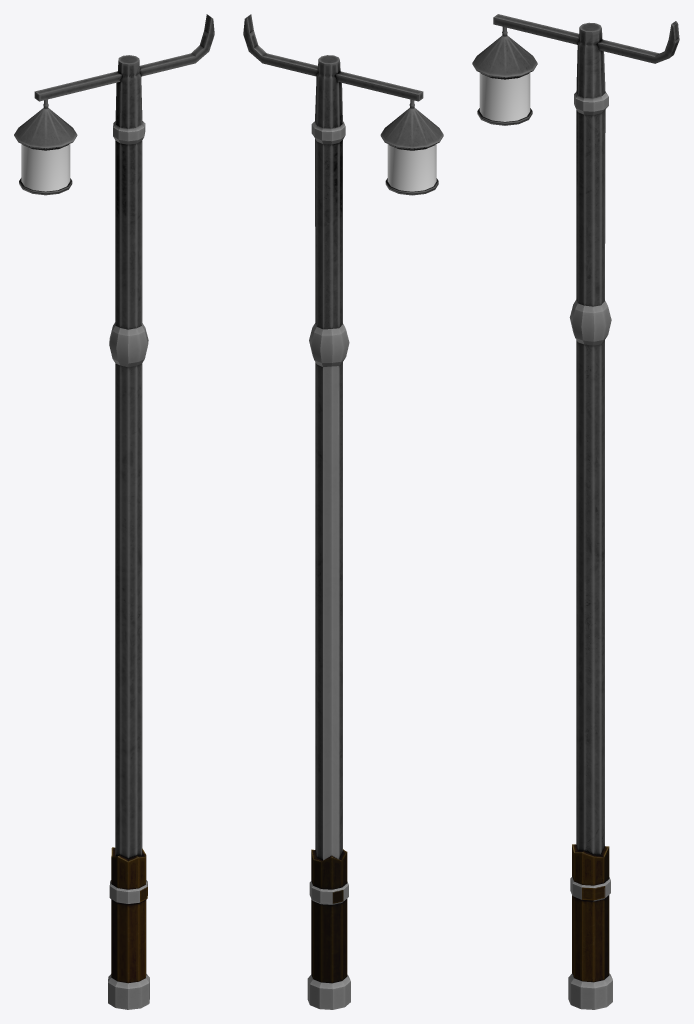
The model's file is lantern_02.fbx.
The picture shows the model from 3 angles, left to right: view 1: azimuth 30°, elevation 25°; view 2: azimuth 150°, elevation 25°; view 3: azimuth 330°, elevation 25°; orthographic projection. The views are drawn at different scales.
Visible parts, largest first — view 1: lantern_02; view 2: lantern_02; view 3: lantern_02.
Part boxes in pixels (x1=…): lantern_02: x1=14, y1=14, x2=214, y2=1009; lantern_02: x1=243, y1=14, x2=443, y2=1009; lantern_02: x1=472, y1=14, x2=679, y2=1009.
Size of the model in its own units: 43.94 by 209 by 12.38.
1 material, 1 textured.
